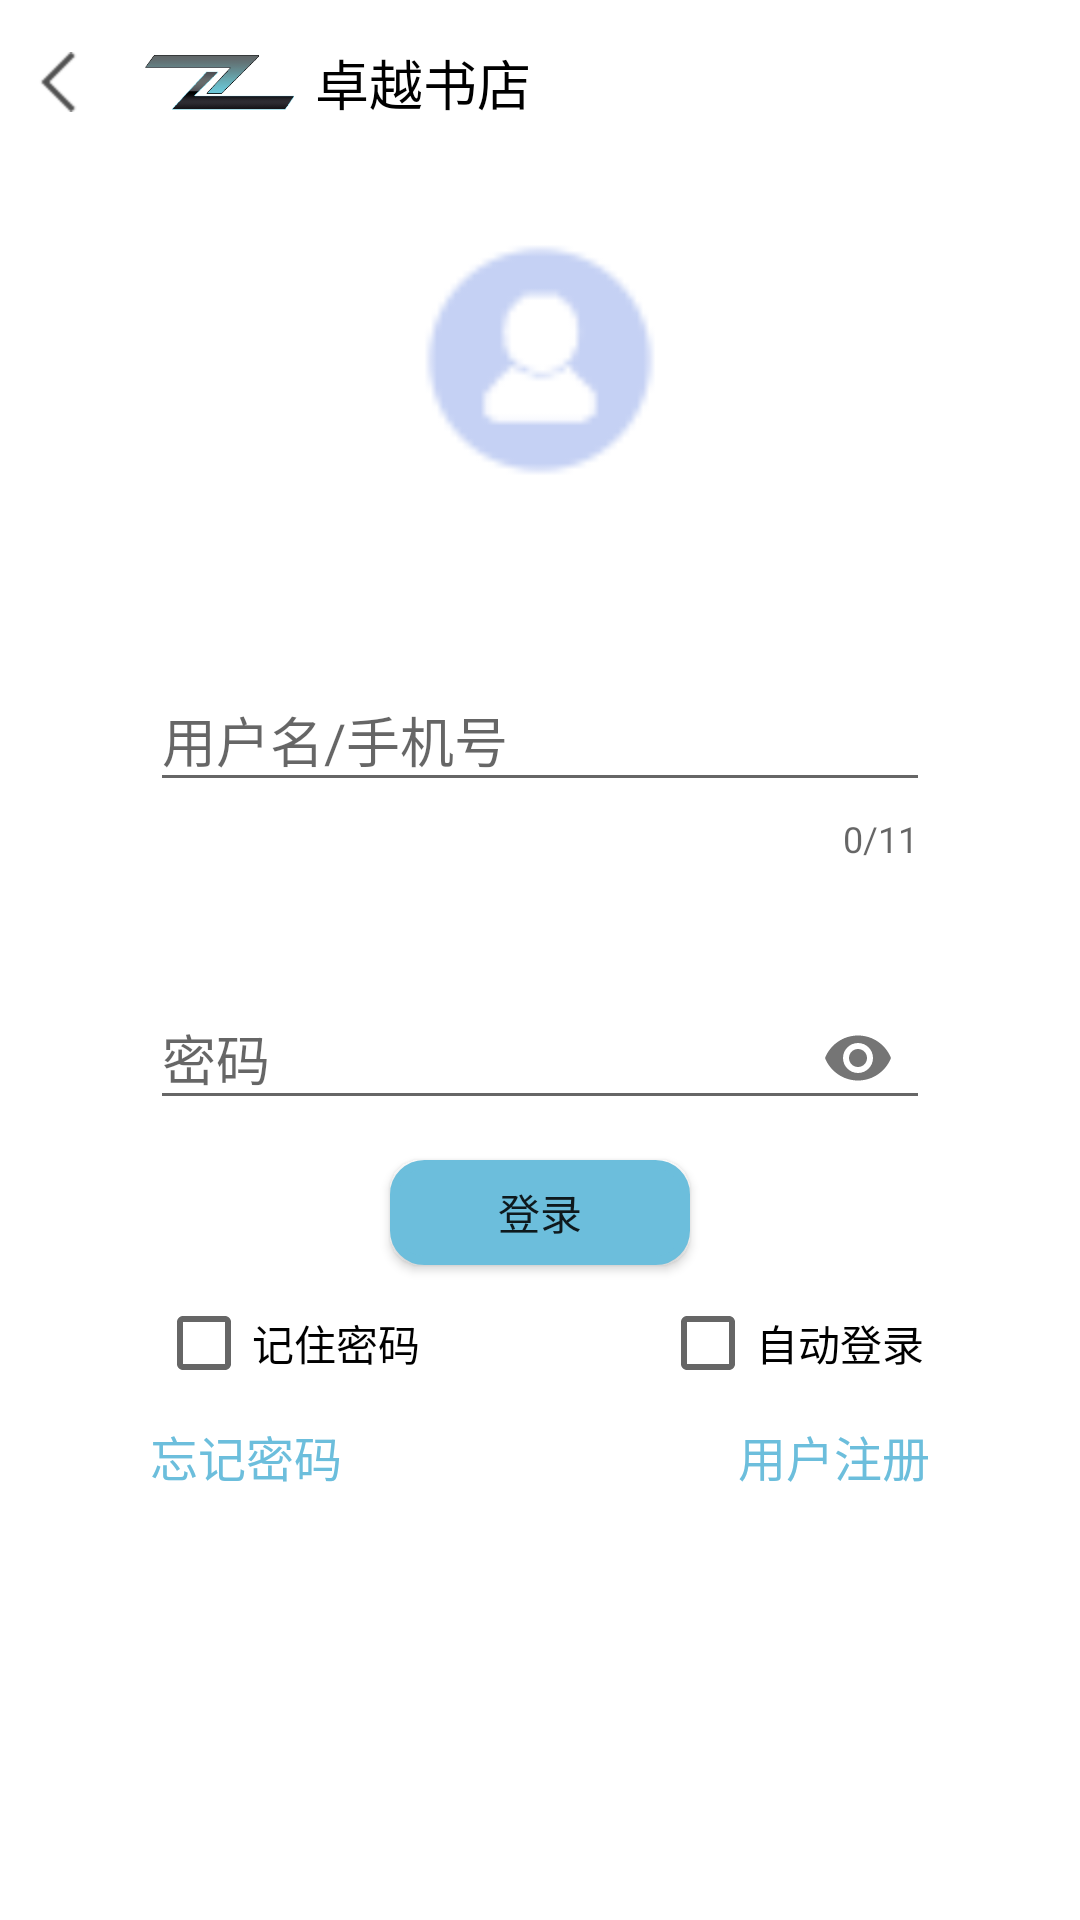

Named icons in this screenshot (1080×1920) and their centers, (x=x, y=y):
back: (x=58, y=82)
login view: (x=540, y=360)
